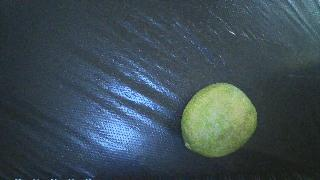DESECHO: (181, 83, 257, 158)
